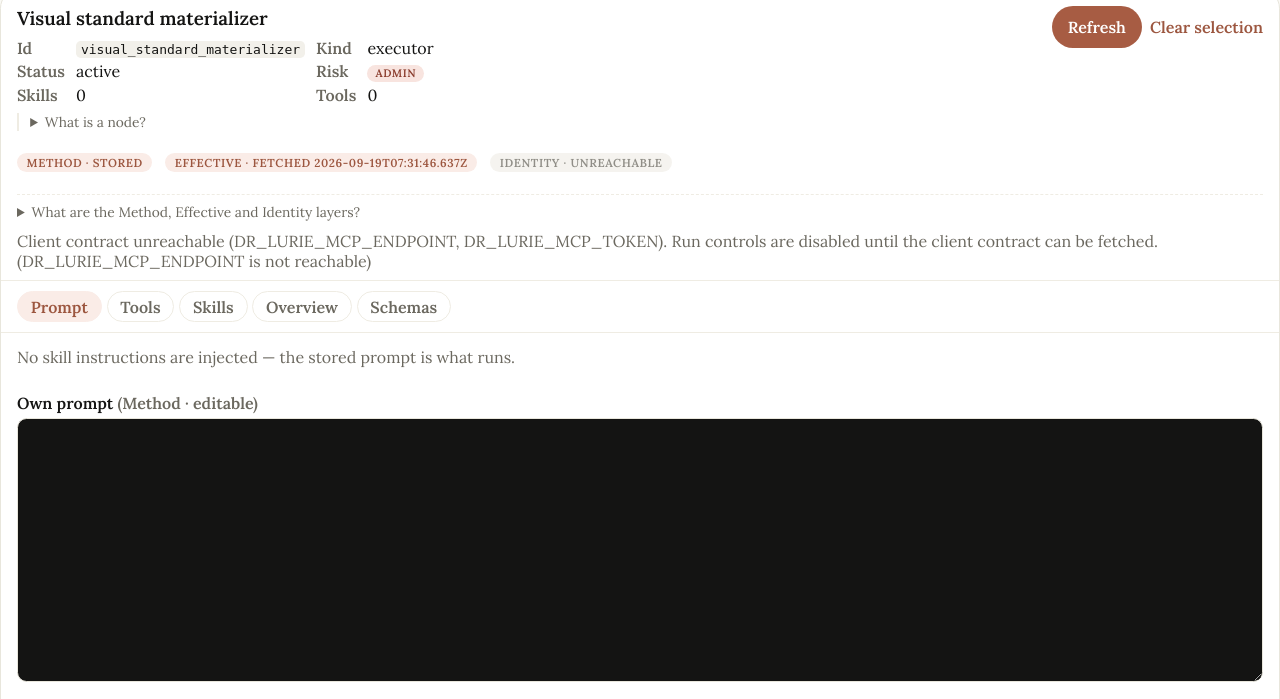
Scenario: NodeInspector — engine capability (W4.2) › shows all six engine verbs with a permission badge each
What coordinates should you click on to do the following:
click the button "Tools"
I would click on:
 (140, 306)
Its box is [106,291,174,322].
(page scrolled)
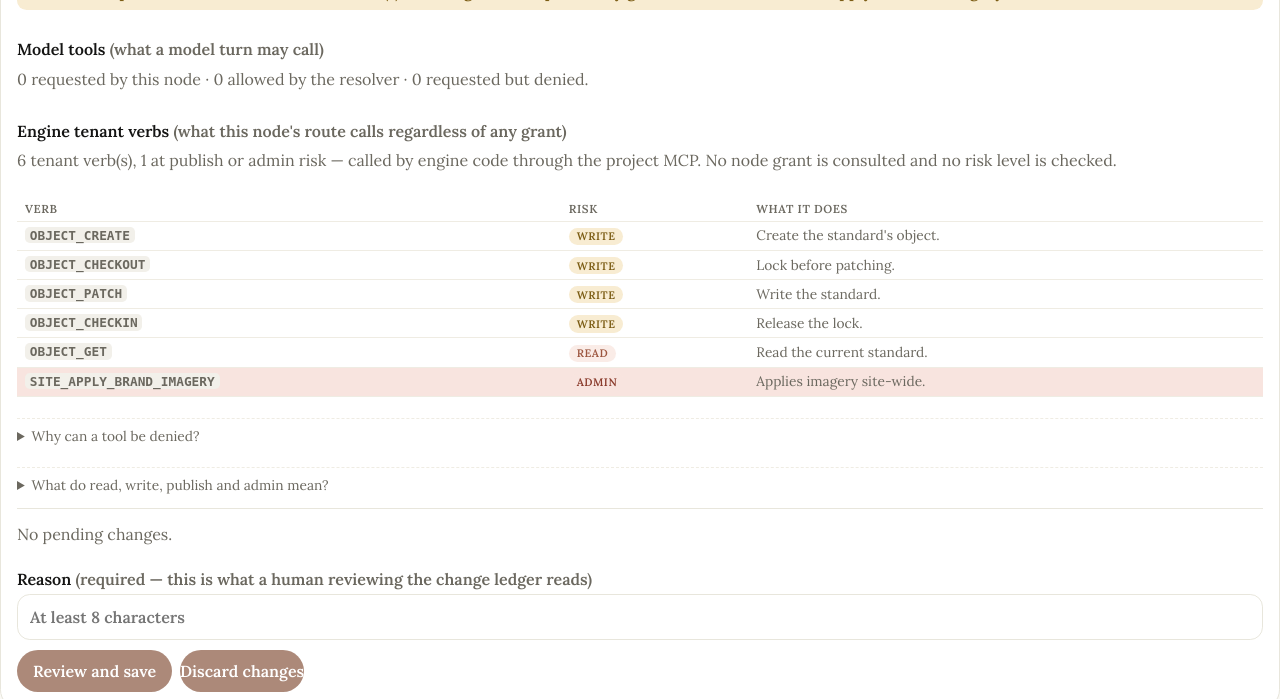
Expected: the text "write" in the row of "object_create" is shown, [577,229,616,243]
Expected: the text "write" in the row of "object_checkout" is shown, [577,259,616,273]
Expected: the text "write" in the row of "object_patch" is shown, [577,288,616,302]
